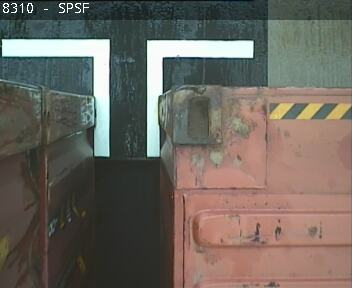groundmarker_1: (2, 37, 253, 157)
